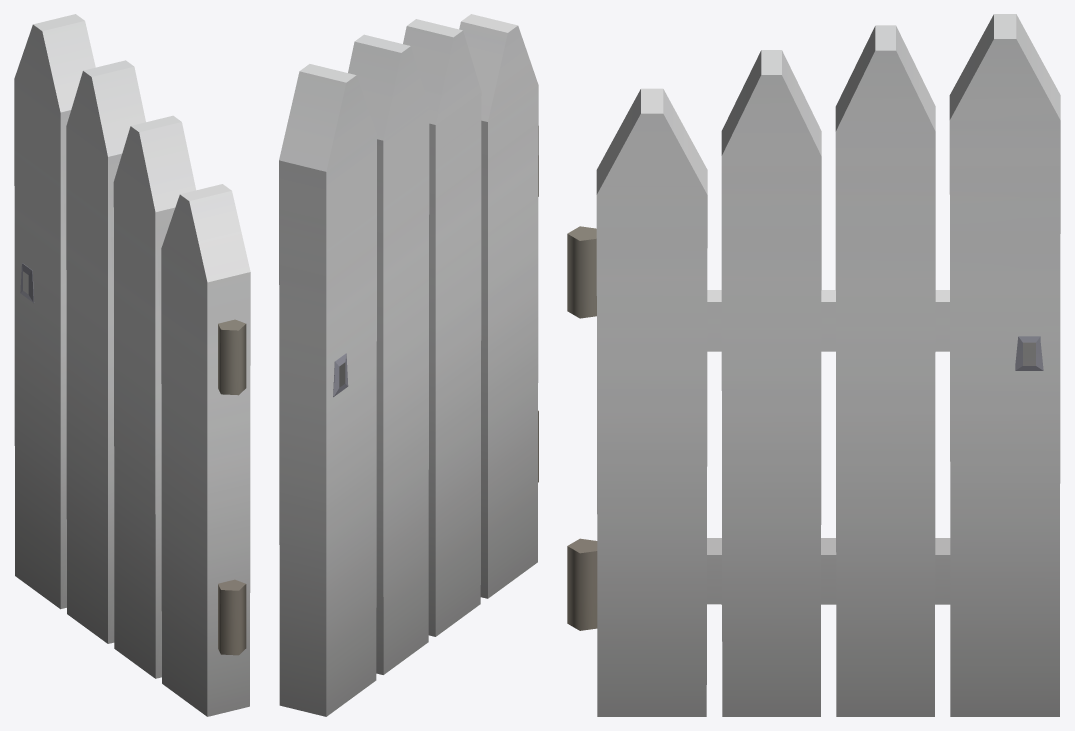
File: Fence_1_A_3.fbx
3 views of the same model, side by side, from view 1: azimuth 30°, elevation 25°; view 2: azimuth 150°, elevation 25°; view 3: azimuth 270°, elevation 25° (orthographic). The views are drawn at different scales.
Visible parts, largest first — view 1: Fence_1_A_3; view 2: Fence_1_A_3; view 3: Fence_1_A_3.
Boxes of the visible parts, x1=… form: Fence_1_A_3: x1=14, y1=14, x2=250, y2=716; Fence_1_A_3: x1=279, y1=14, x2=538, y2=716; Fence_1_A_3: x1=567, y1=14, x2=1060, y2=716.
Bounding box in the file's own units: 5.09 × 60.13 × 39.65.
